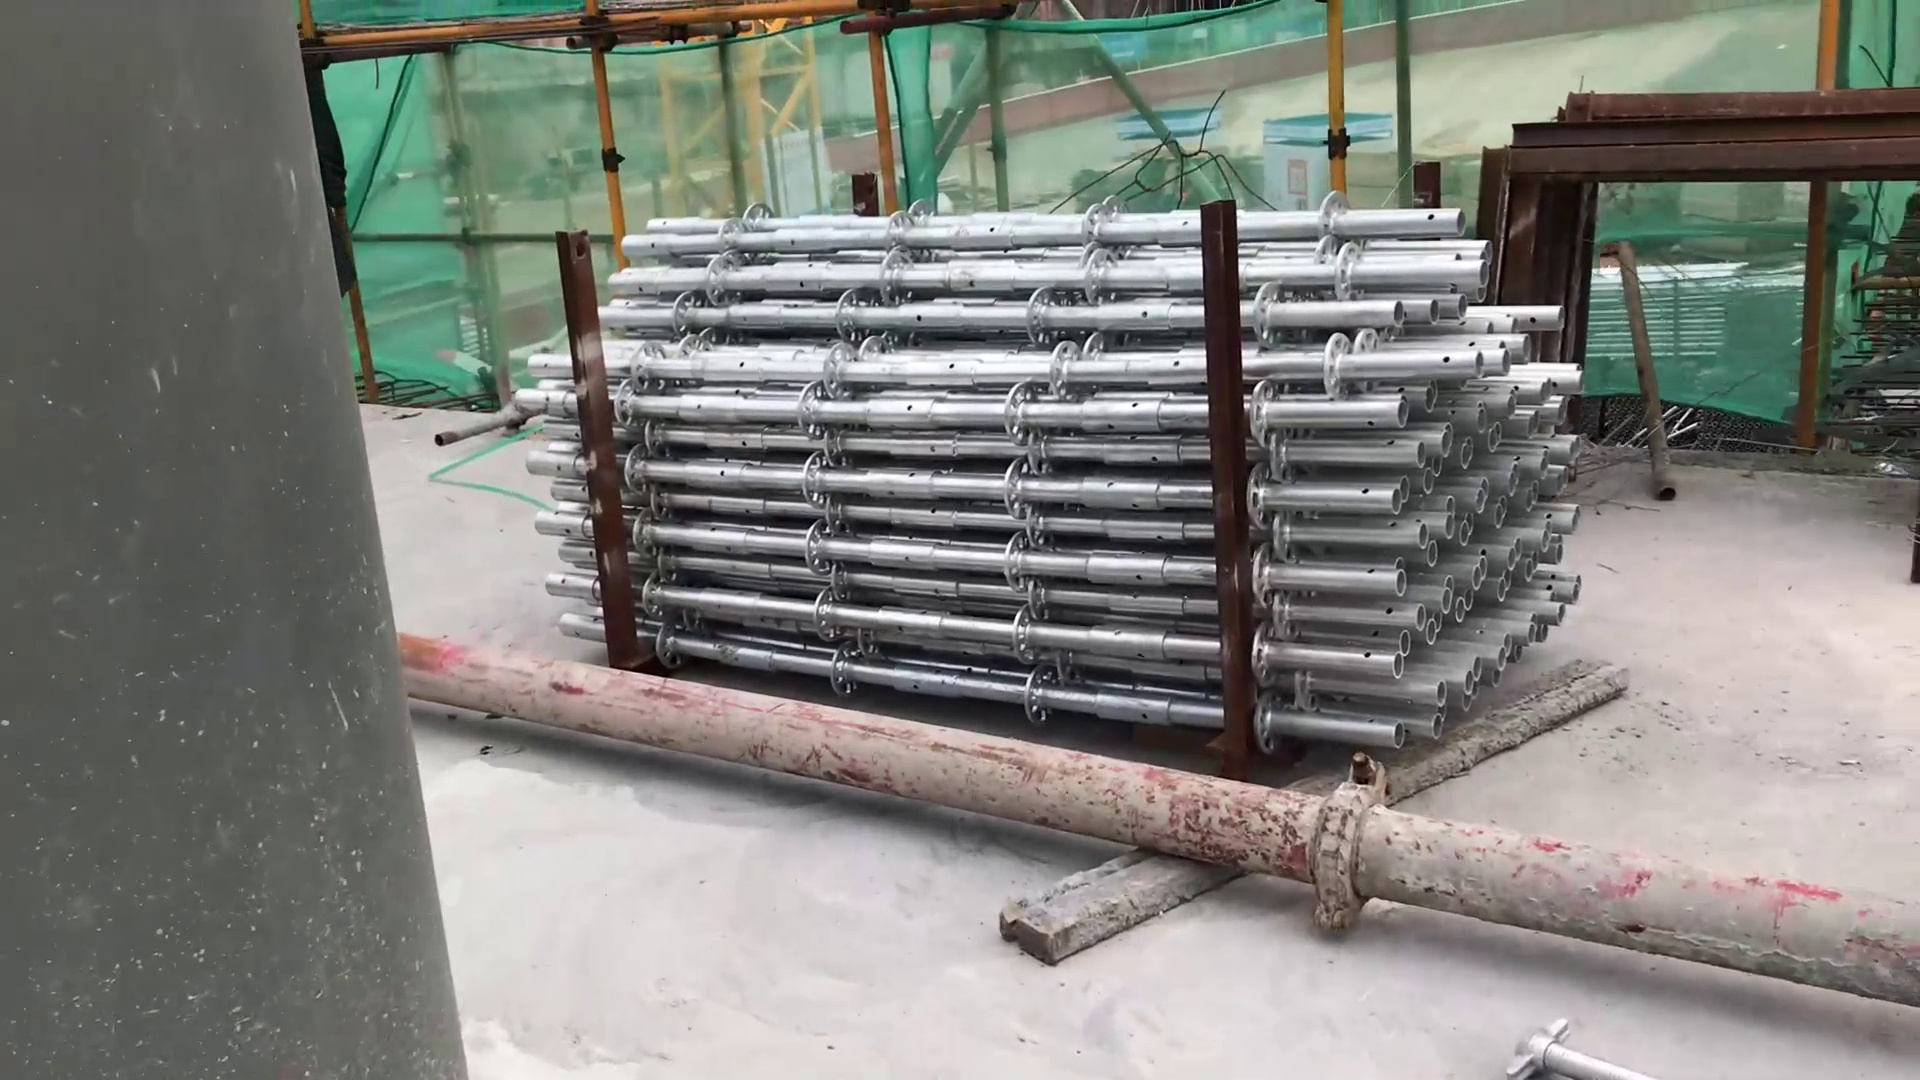scaffold: (510, 190, 1596, 760)
